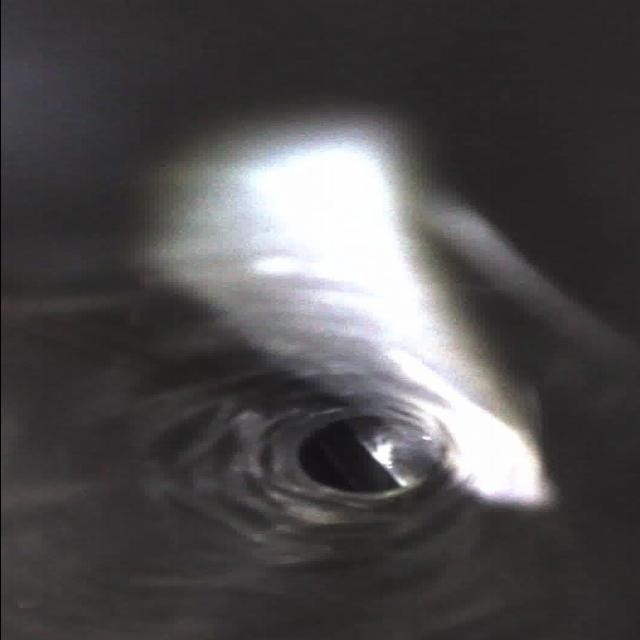crack: (178, 473, 280, 544), (166, 400, 262, 463)
